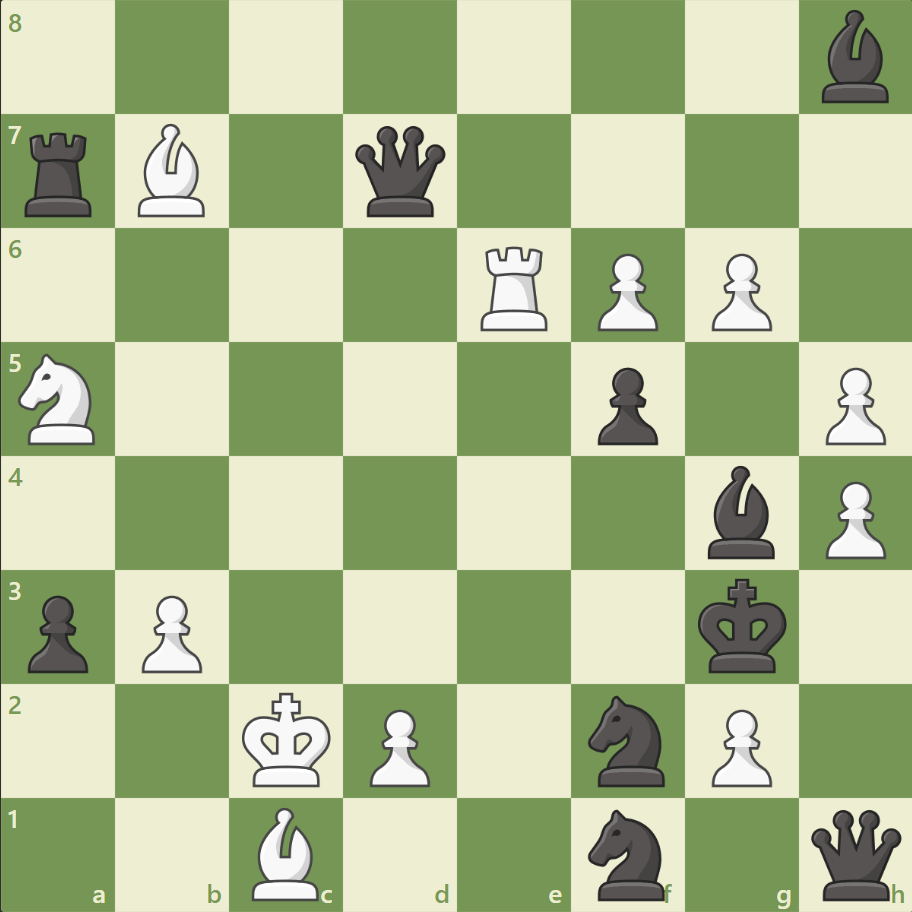B: (244, 801, 328, 904), (131, 120, 215, 222)
K: (238, 685, 338, 793)
N: (11, 348, 108, 450)
P: (701, 246, 776, 337), (133, 586, 208, 677), (701, 700, 776, 791), (588, 246, 662, 337), (815, 359, 889, 450), (815, 473, 889, 564), (361, 700, 435, 791)
R: (473, 239, 556, 336)
b: (812, 6, 896, 109), (698, 460, 782, 563)
k: (692, 571, 792, 679)
n: (579, 688, 676, 791), (579, 802, 676, 904)
p: (20, 586, 95, 677), (588, 359, 662, 450)
q: (351, 122, 450, 222), (805, 804, 904, 903)
r: (19, 125, 102, 222)
